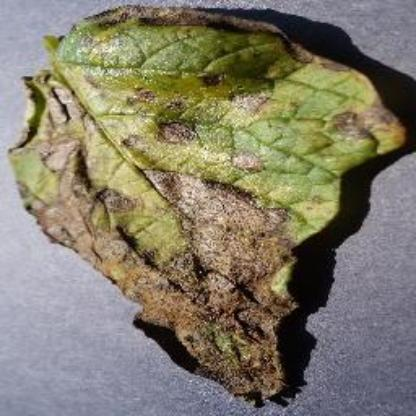Early-Blight: (6, 6, 406, 402)
